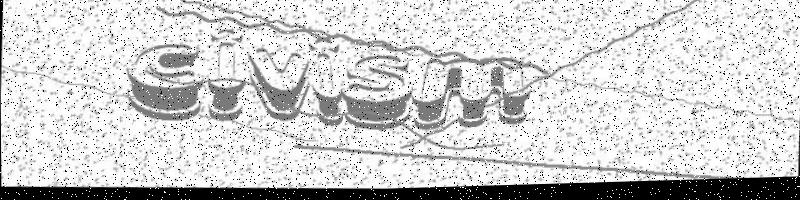c: (123, 40, 208, 125)
i: (204, 27, 248, 125), (306, 37, 348, 129)
m: (411, 56, 532, 137)
s: (340, 52, 414, 134)
v: (245, 46, 311, 124)
